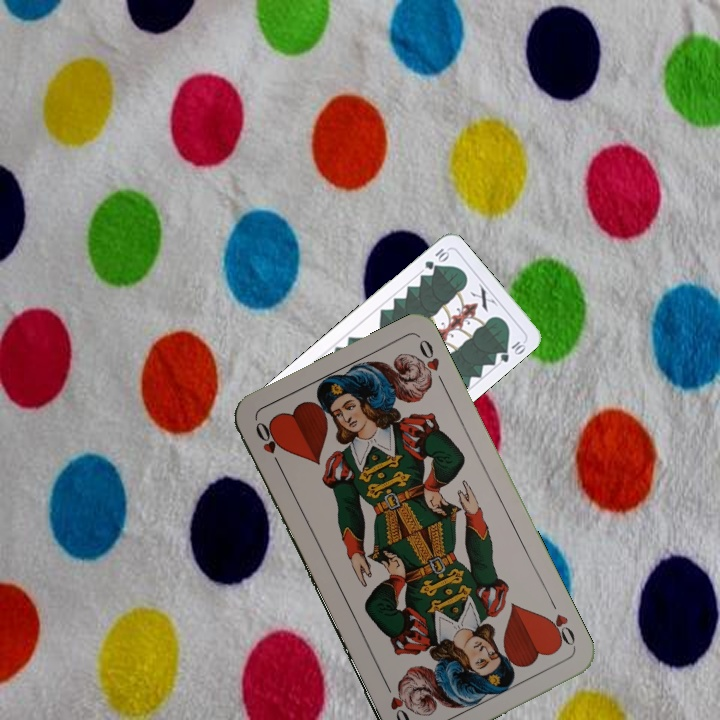G10: (421, 244, 453, 272)
HO: (541, 595, 579, 650), (251, 417, 285, 472)
